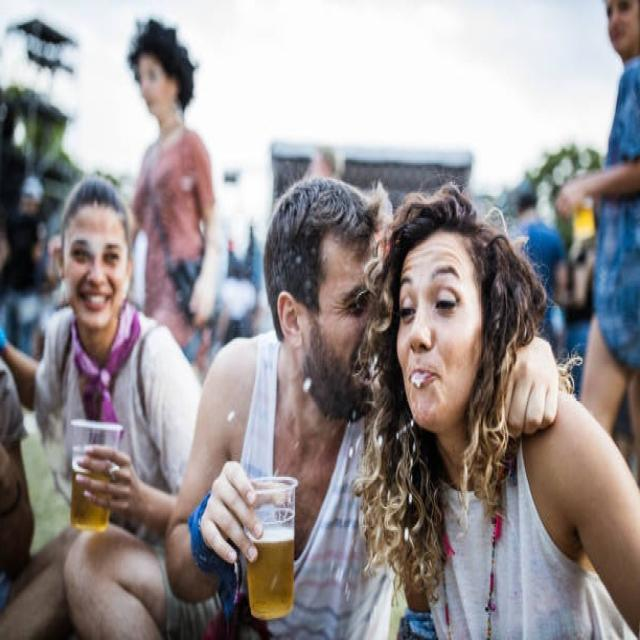Spitting: (366, 188, 517, 536)
